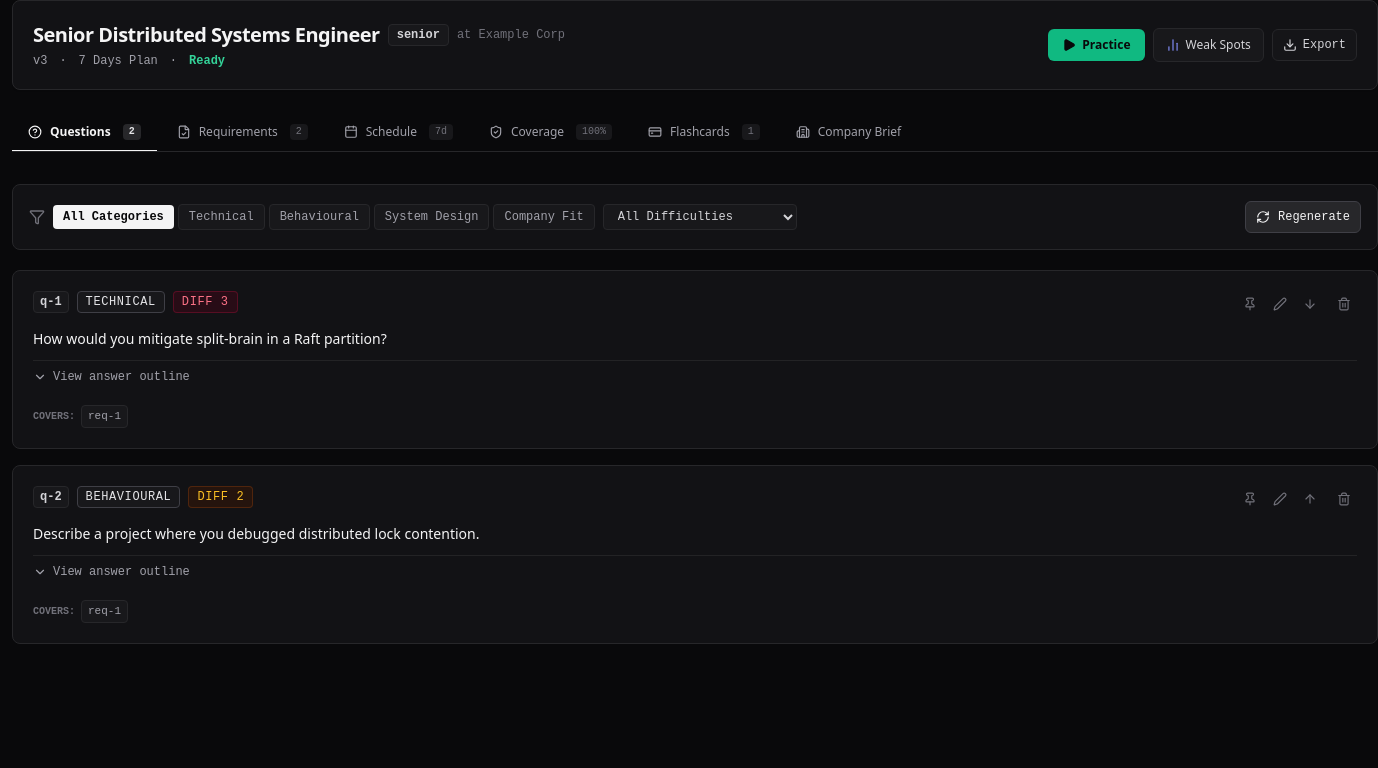
KitViewer › handles 423 LOCKED gracefully with alert message
The image size is (1378, 768).
Step 1. Click the button titled "pin question" in the row of "Diff 3" → (1250, 304), box x1=1237 y1=291 x2=1263 y2=317
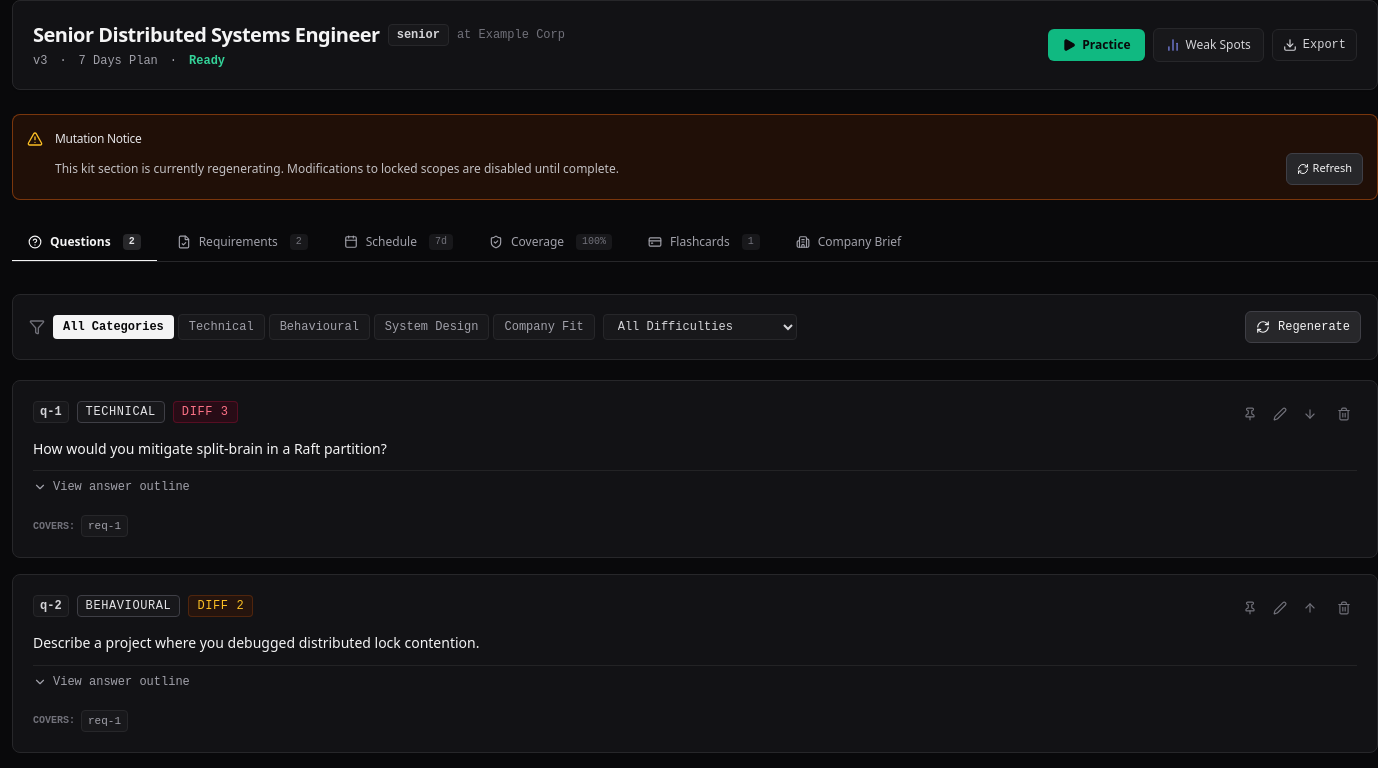
Result: the text "currently regenerating" is shown at x1=55 y1=160 x2=619 y2=176
